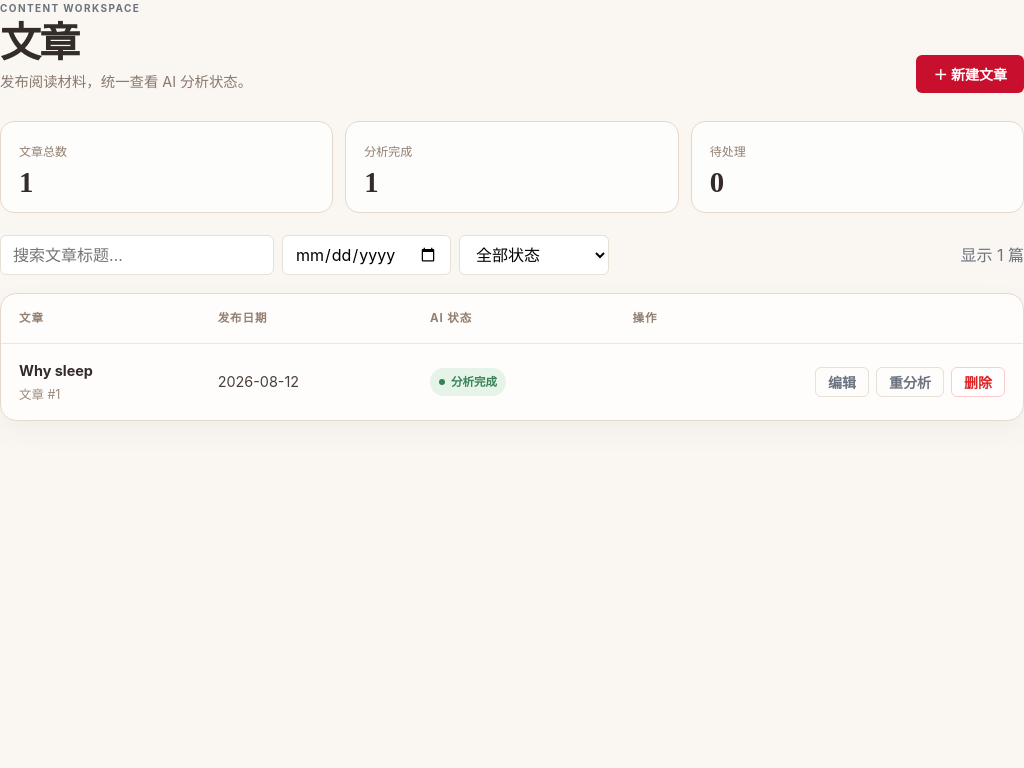
Test: ArticlesAdmin › renders article status and opens the create drawer
Expected: the text "Why sleep" is shown, [19, 362, 93, 379]
Step 1. Click the button "＋ 新建文章" → (970, 74), box [916, 55, 1023, 93]
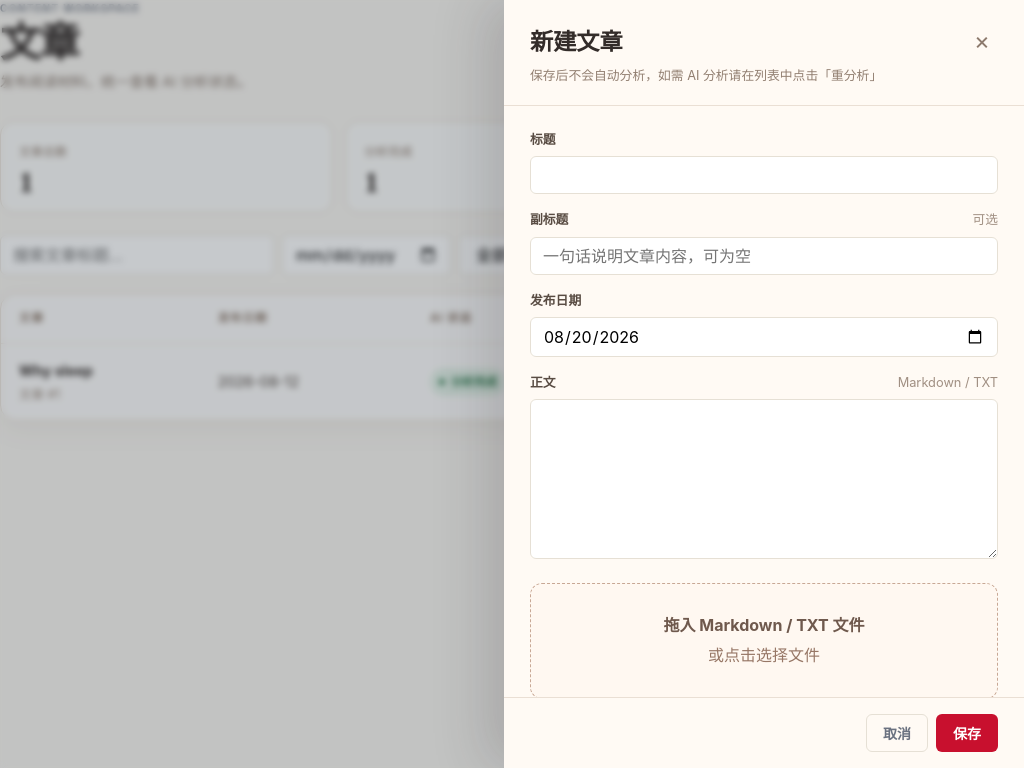
Expected: the dialog "新建文章" is shown, [504, 0, 1023, 767]
